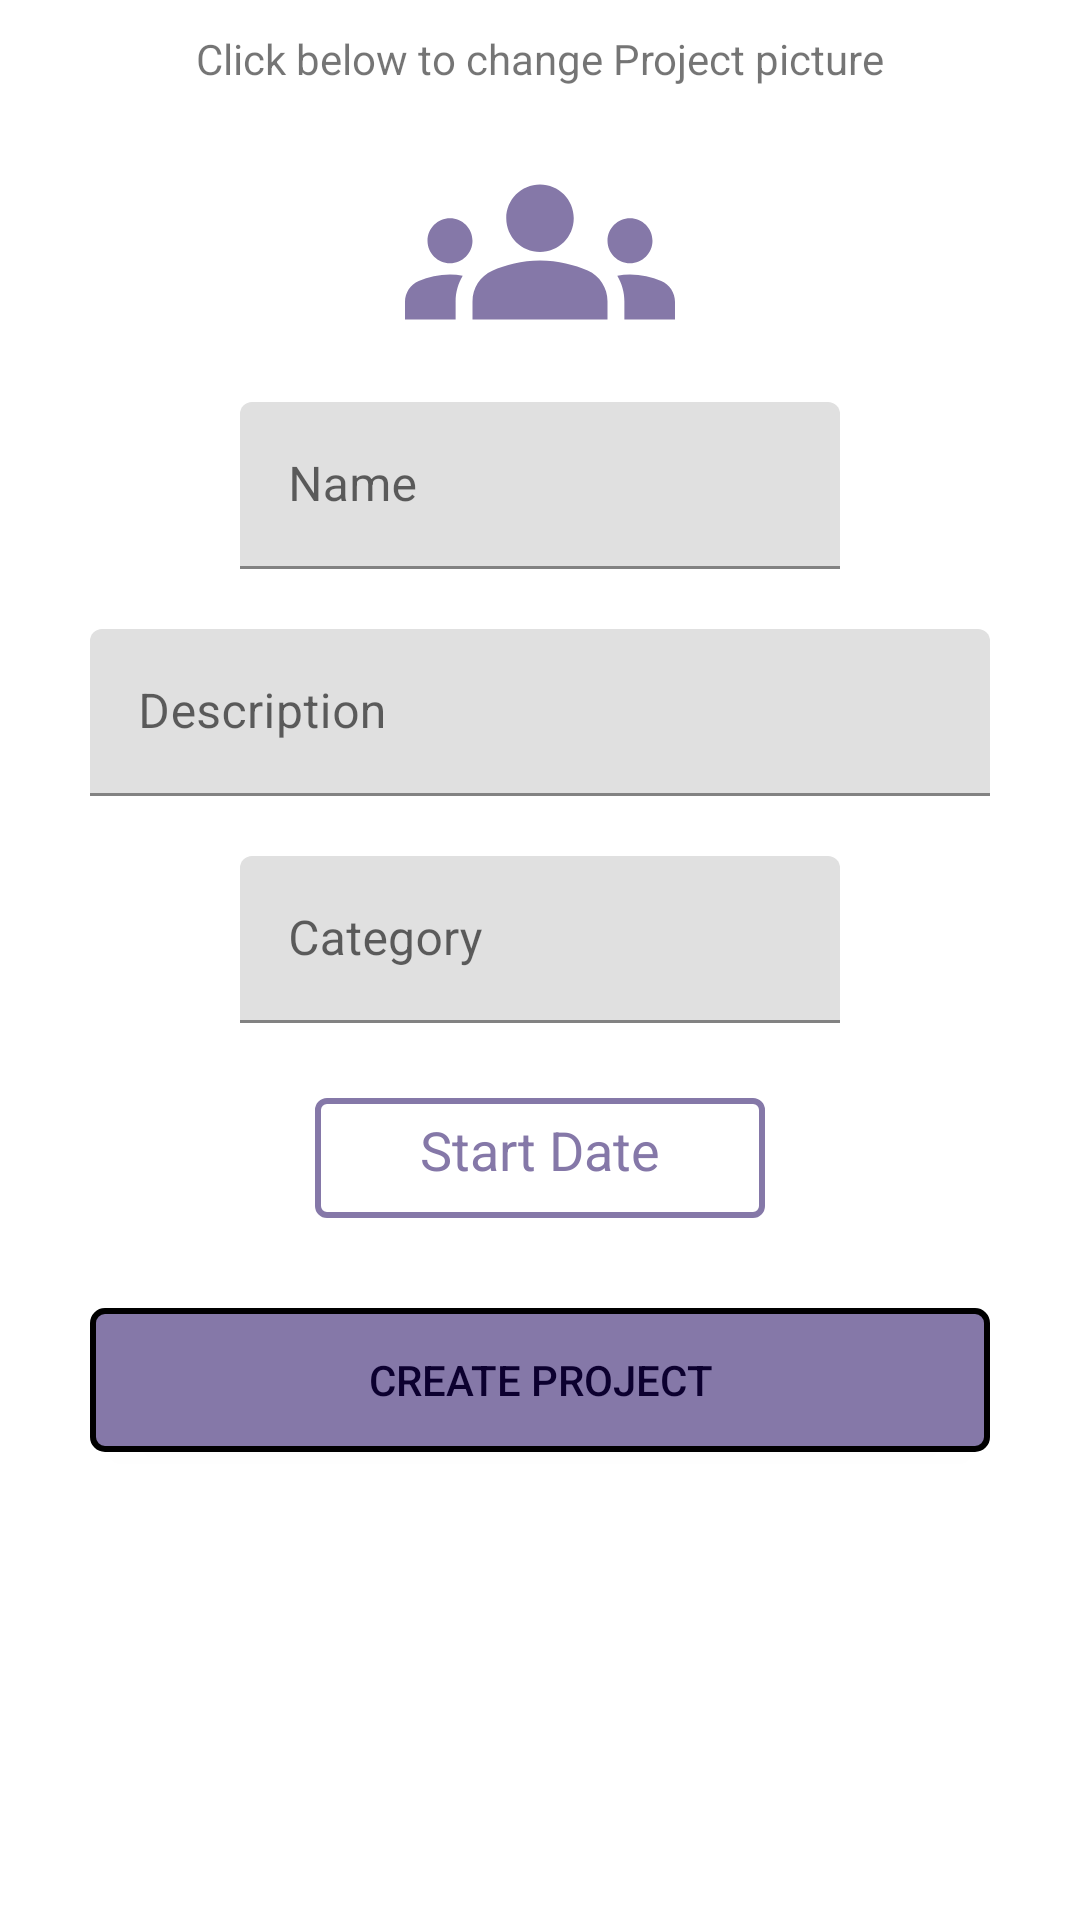

Where icons sit on this 1080w x 1920h app screen, as (x1, y1, x2, y2):
group main: (405, 184, 675, 320)
